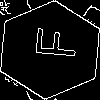F: (25, 25, 78, 60)
